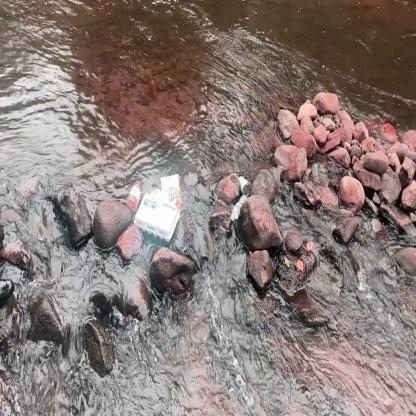Glass: (125, 177, 145, 215)
Metal: (228, 172, 251, 220)
Plastic: (132, 173, 185, 246)
